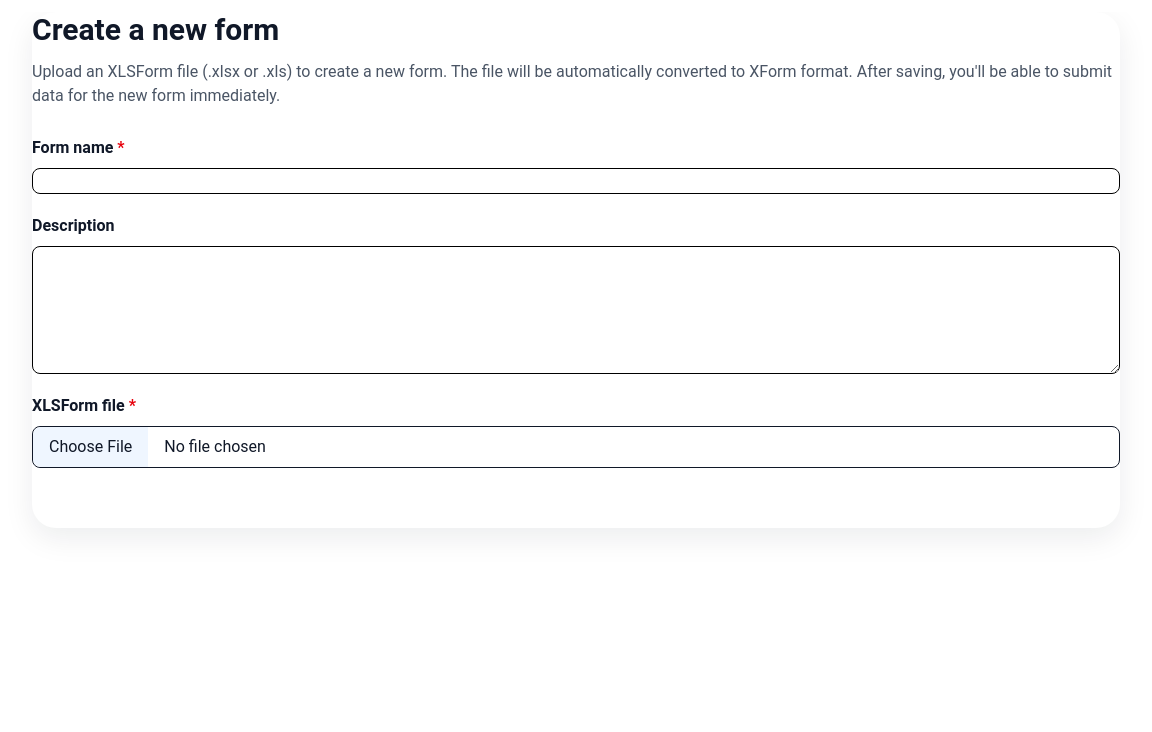
FormCreateView › shows error when file is not selected
The image size is (1152, 732).
// Fill name but no file
Type "Test Form" into the field labelled "Form name *". click: x=576, y=181
box: x1=32 y1=168 x2=1120 y2=194
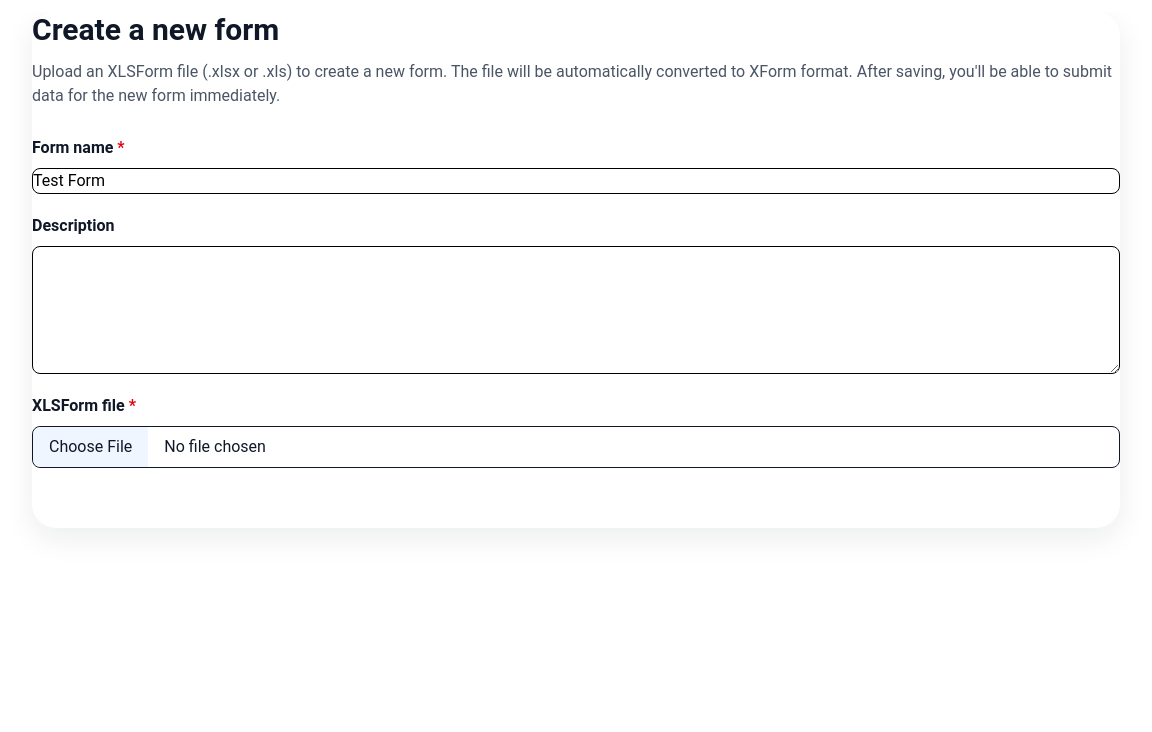
Submit the form, box x1=32 y1=136 x2=1120 y2=528
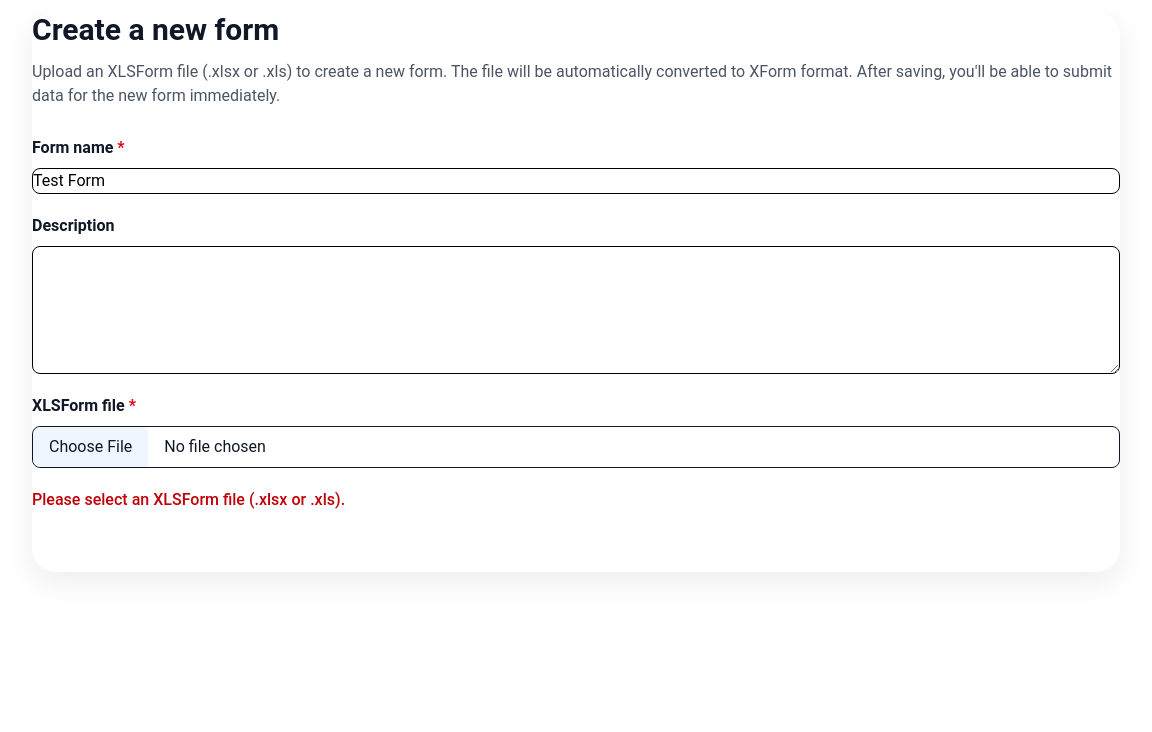
Check: the text "Please select an XLSForm file" is shown, box x1=32 y1=490 x2=345 y2=509
